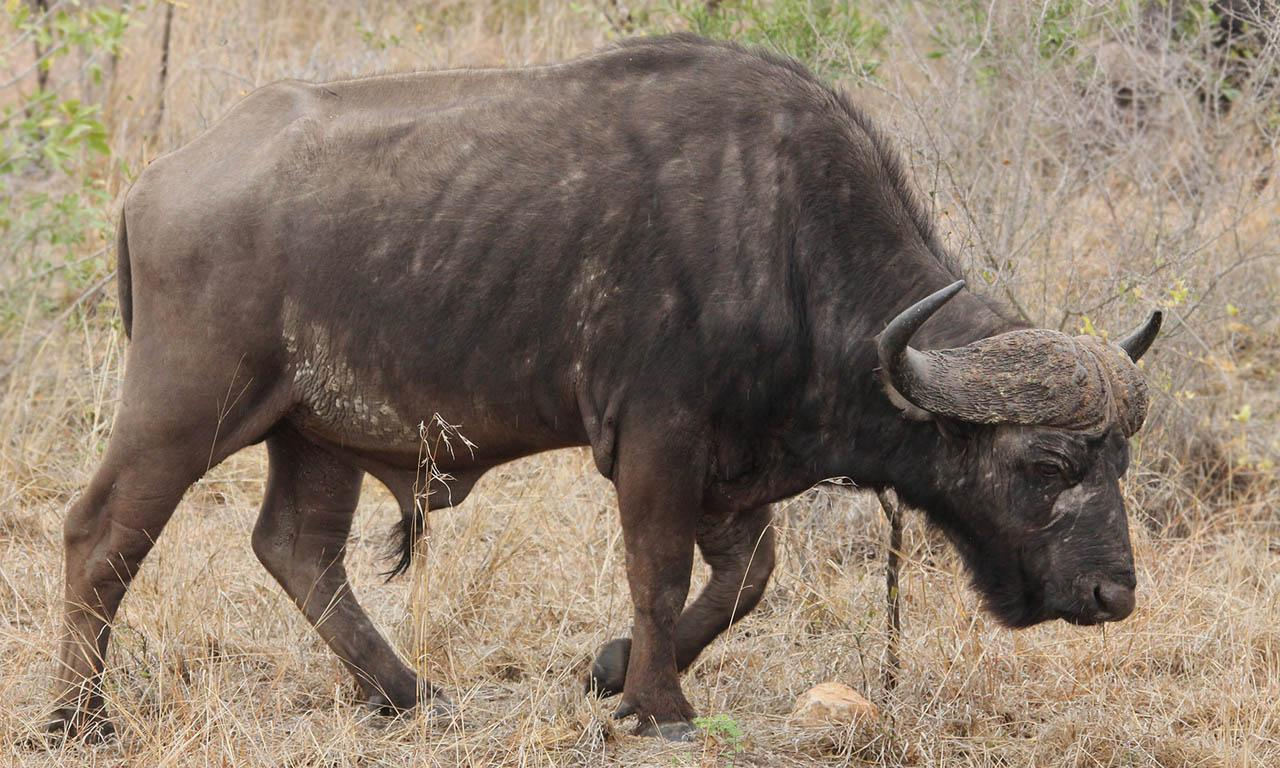Buffalo: (70, 55, 1228, 768)
